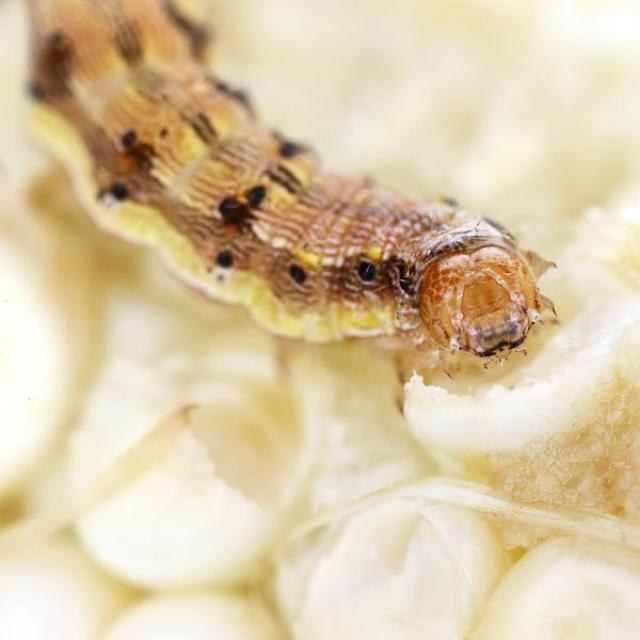worm: (14, 1, 562, 379)
